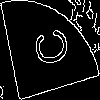C: (24, 25, 71, 71)
